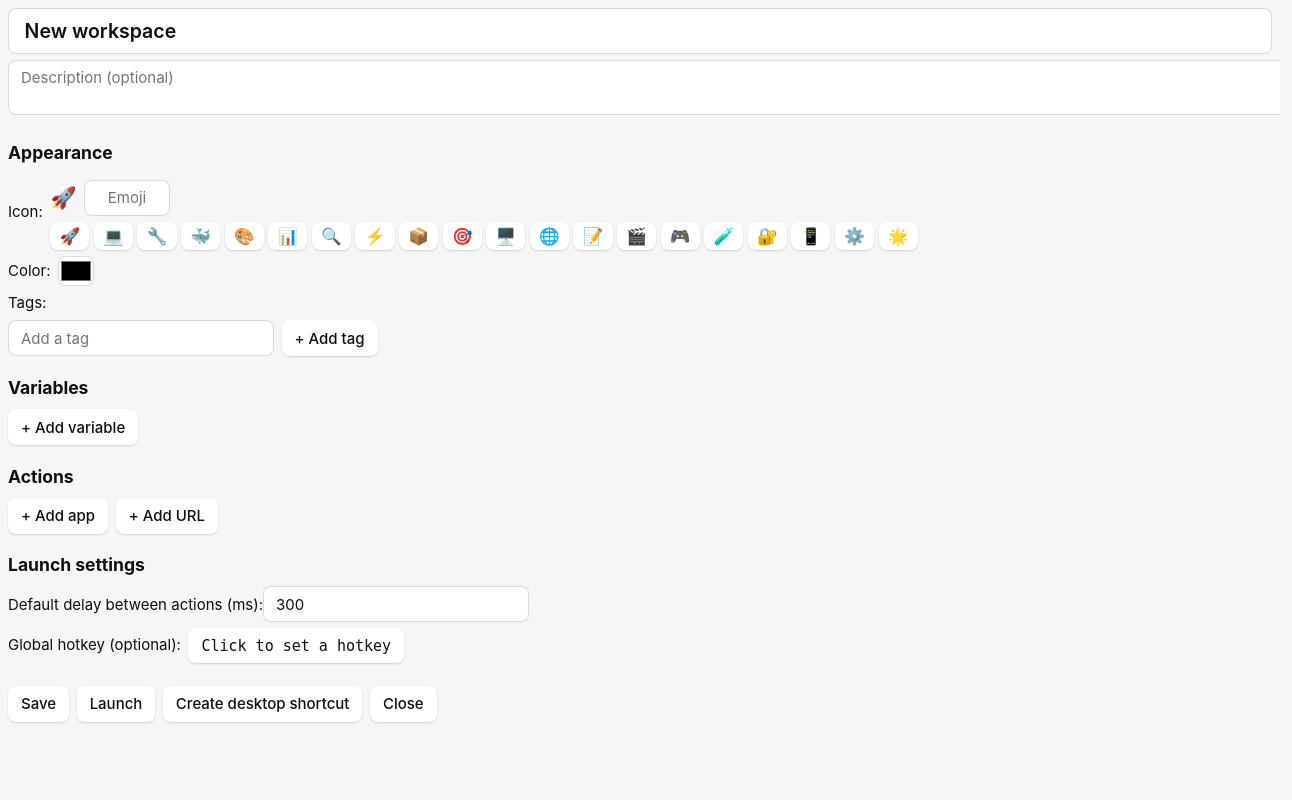
Test: WorkspaceEditor › shows a Launch failed banner when launching rejects
Check: the field with placeholder "Workspace name" is shown, box left=8, top=8, right=1272, bottom=54
Step 1. Click the button "Launch" → point(116, 704), box left=77, top=686, right=155, bottom=722
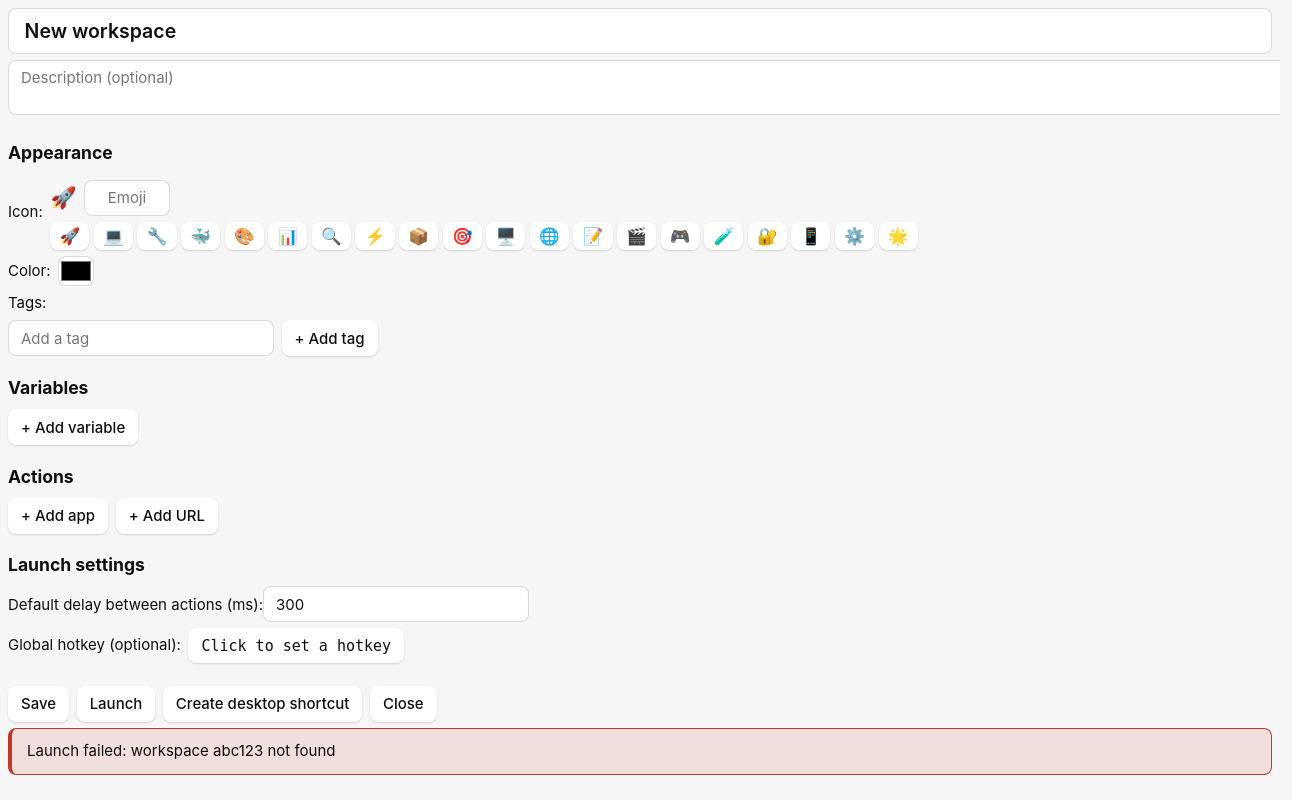
Check: the message reads "Launch failed: workspace abc123 not found", box left=27, top=741, right=336, bottom=760
